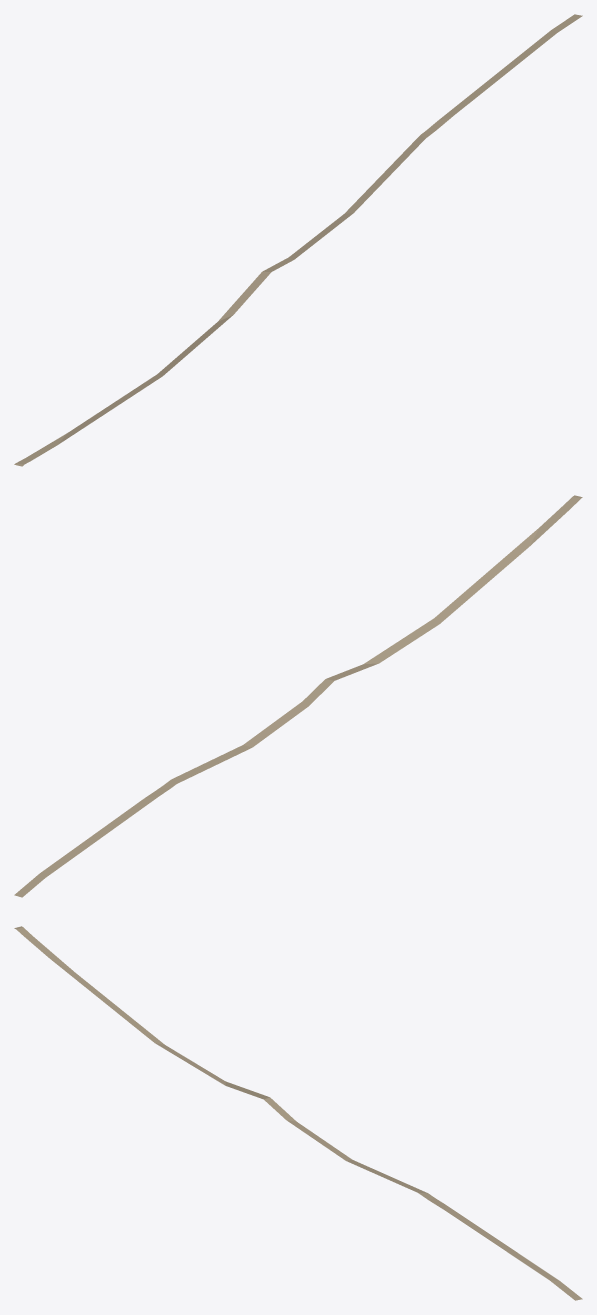
File: farm_11_16_track.glb
3 views of the same model, one above another, from view 1: azimuth 30°, elevation 25°; view 2: azimuth 210°, elevation 25°; view 3: azimuth 270°, elevation 25° (orthographic). The views are drawn at different scales.
Visible parts, largest first — view 1: geometry_0; view 2: geometry_0; view 3: geometry_0.
Boxes of the visible parts, <box> form: geometry_0: <box>14,14,582,466</box>; geometry_0: <box>14,495,582,897</box>; geometry_0: <box>14,926,582,1300</box>.
Size of the model in its own units: 343 by 17.51 by 207.
